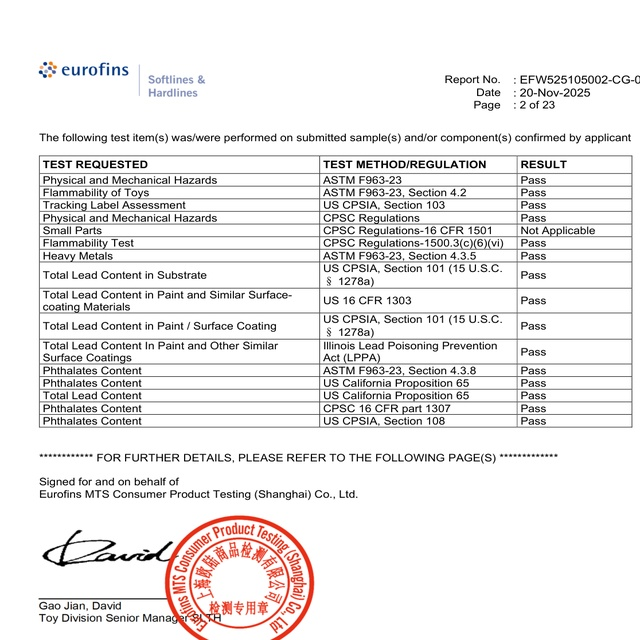eurofins: (33, 55, 133, 83)
